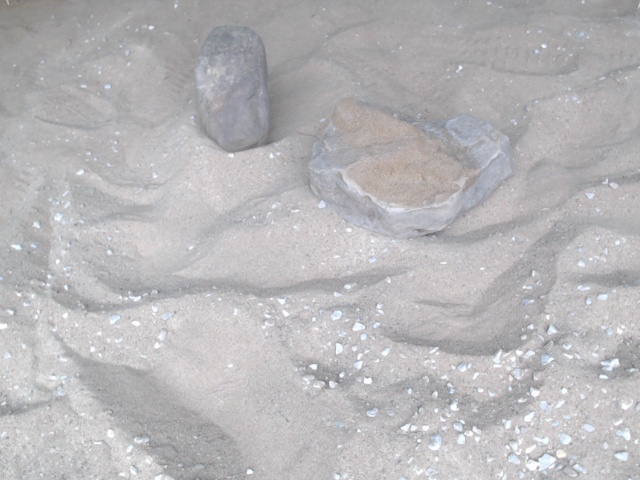rock: (300, 92, 516, 246), (189, 21, 277, 160)
